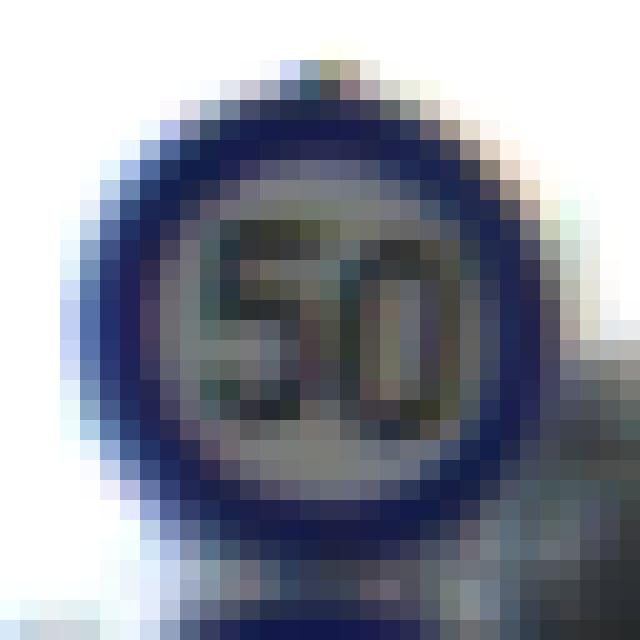SPEED LIMIT 50: (140, 152, 526, 546)
